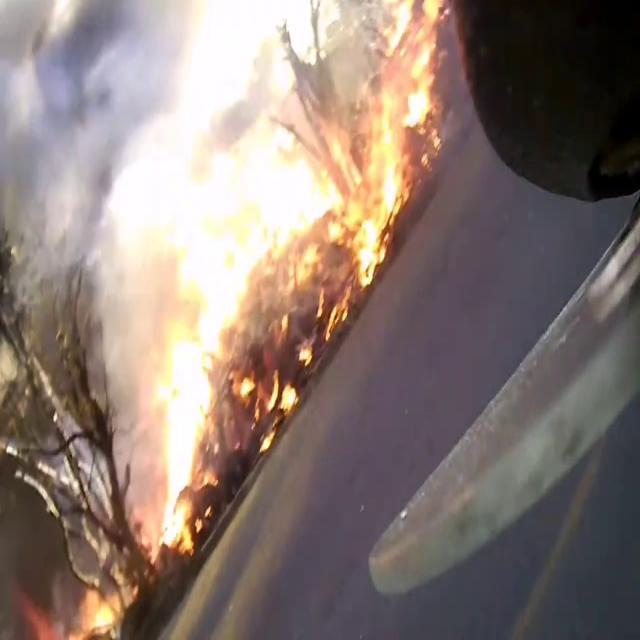Fire: (118, 0, 458, 541), (67, 580, 136, 640)
